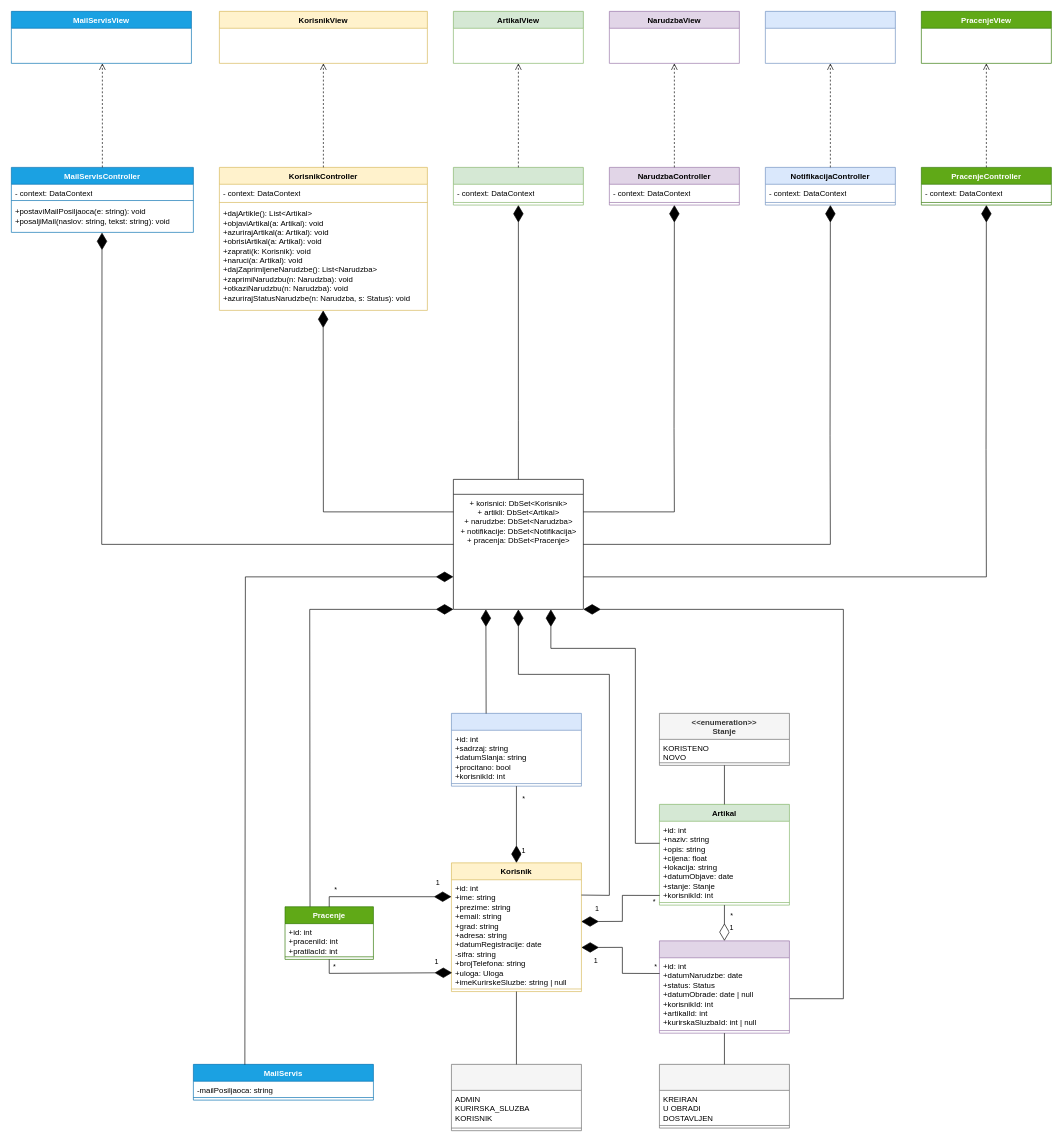
This 1063x1142 diagram has some shape labels left out. Each missing label, with the box of its shape:
<<enumeration>> Status: (659, 1064, 789, 1128)
<<enumeration>> Uloga: (451, 1064, 581, 1131)
ArtikalController: (453, 167, 583, 205)
DataContext: (453, 479, 583, 609)
Narudzba: (659, 940, 789, 1033)
Notifikacija: (451, 713, 581, 786)
NotifikacijaView: (765, 11, 895, 63)
